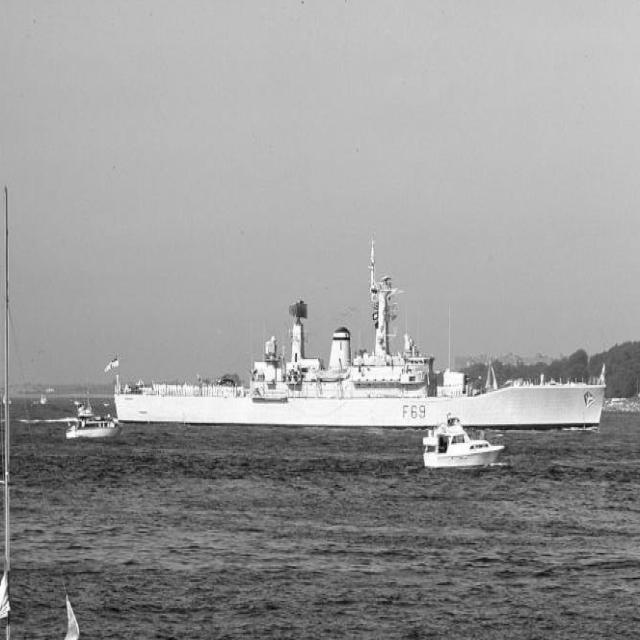Fragata: (107, 224, 608, 434)
